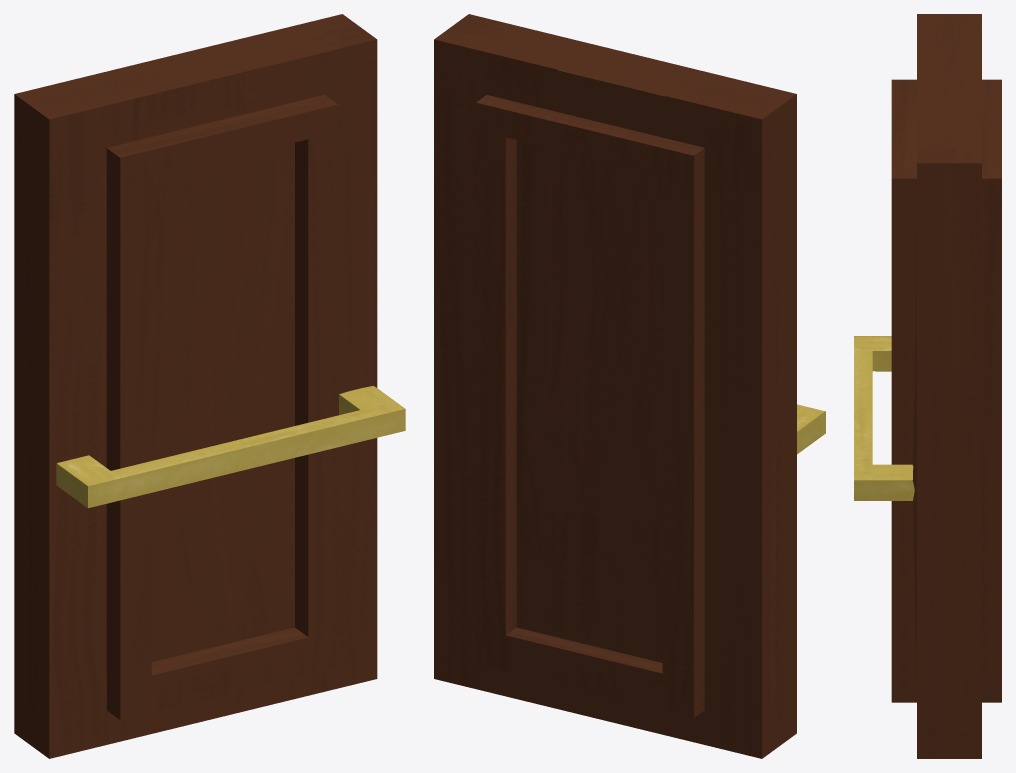
Rendered from Door_Bar.fbx.
3 views of the same model, side by side, from view 1: azimuth 30°, elevation 25°; view 2: azimuth 150°, elevation 25°; view 3: azimuth 270°, elevation 25° (orthographic). The views are drawn at different scales.
Parts seen in each view (by area): view 1: polySurface6; view 2: polySurface6; view 3: polySurface6.
Part boxes in pixels (x1,y1,x2,y2): polySurface6: (14,14,405,758); polySurface6: (434,14,825,758); polySurface6: (854,14,1001,758).
Bounding box in the file's own units: 131 × 244 × 54.87.
1 material, 1 textured.
